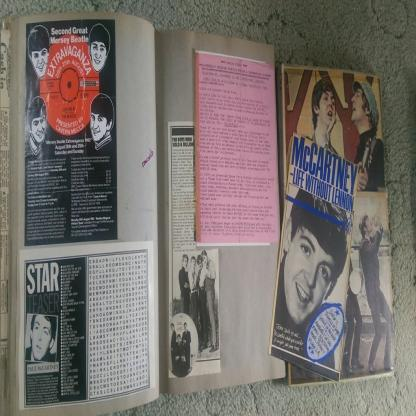book: (0, 13, 282, 416), (275, 68, 396, 392), (7, 230, 157, 404)
